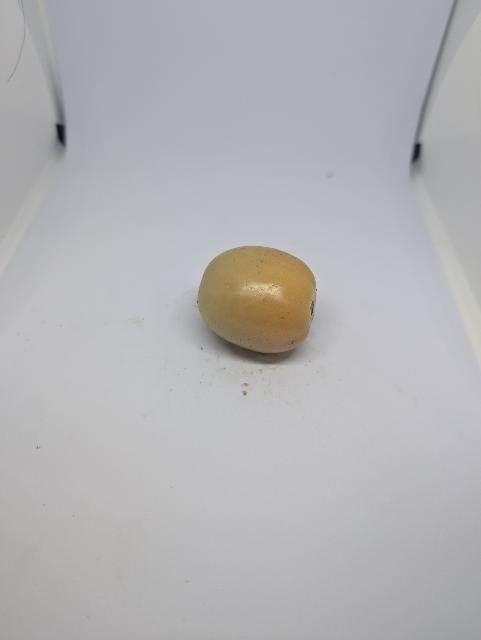breaker: (192, 243, 328, 360)
